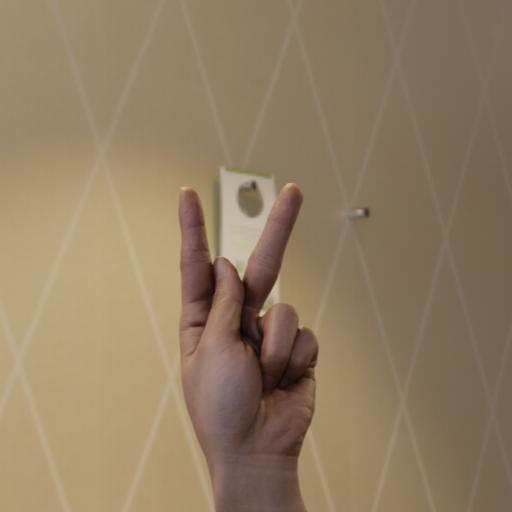K: (162, 179, 332, 491)
